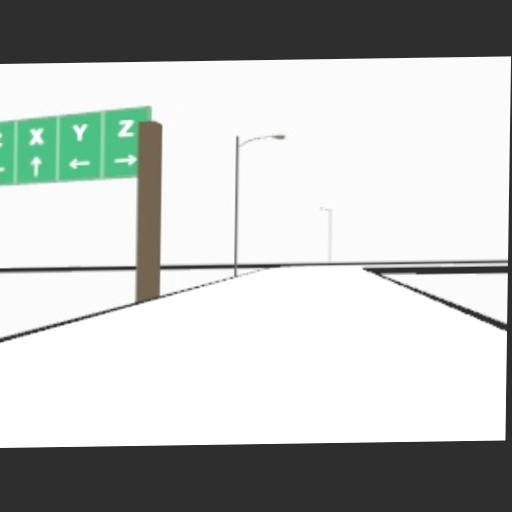C: (0, 131, 4, 149)
Left: (68, 158, 91, 169), (0, 164, 5, 175)
Right: (112, 153, 137, 165)
Straight: (29, 155, 42, 176)
X: (28, 126, 44, 145)
Y: (70, 123, 86, 141)
Z: (116, 118, 134, 136)
